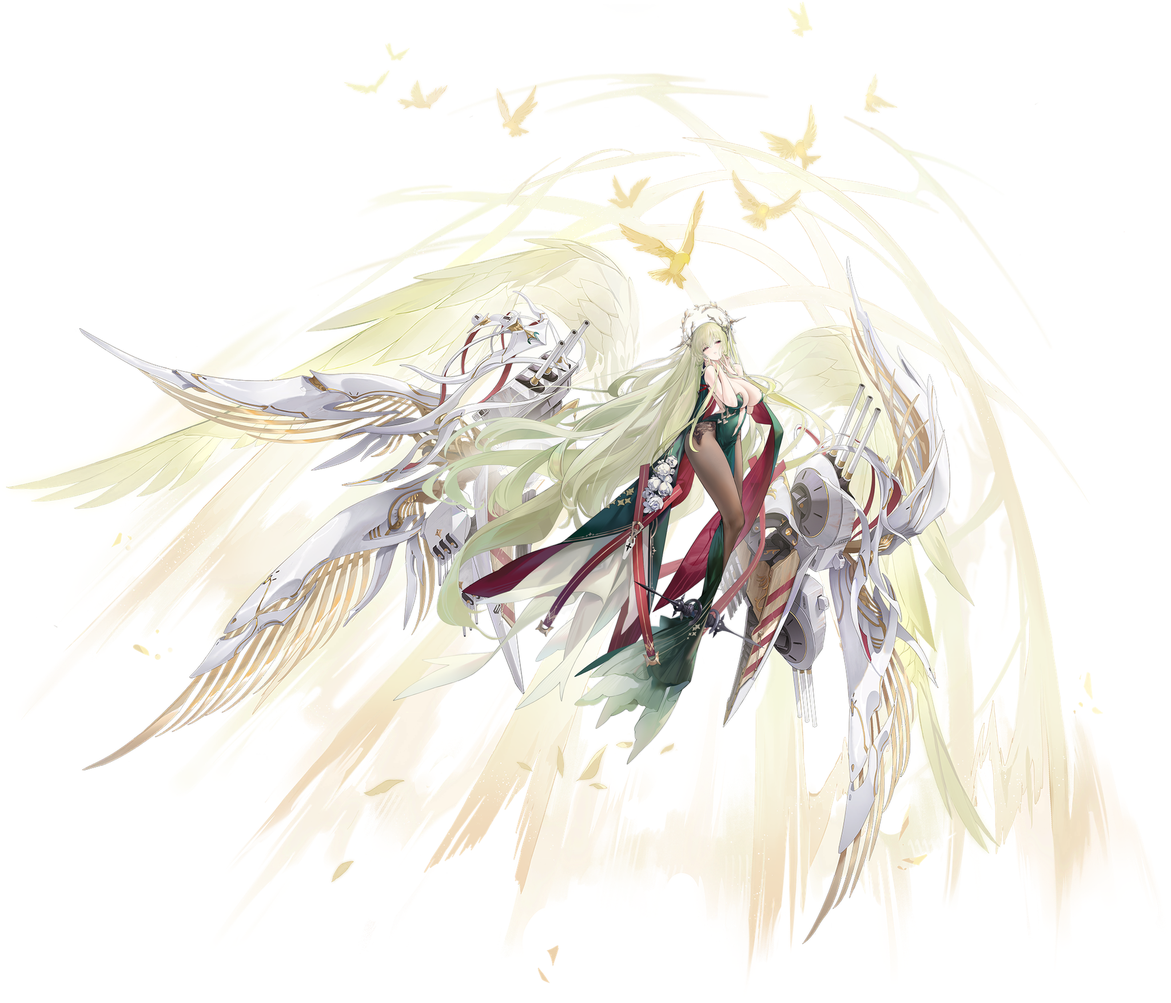person: (3, 148, 837, 1001)
